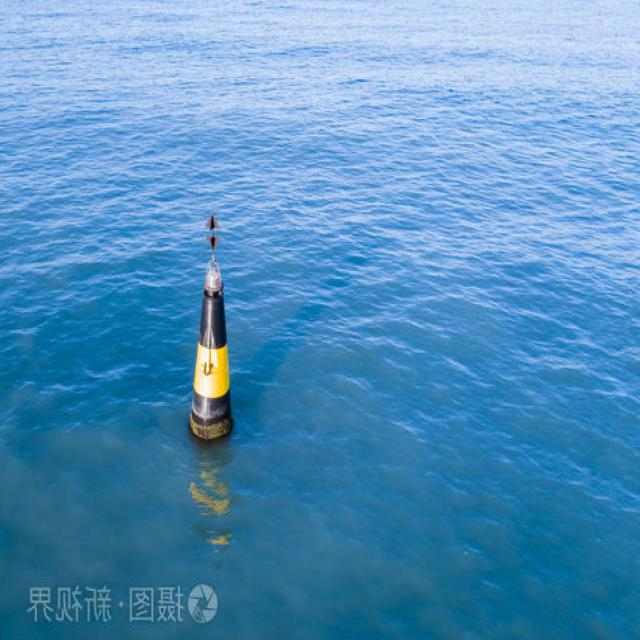buoy: (188, 197, 239, 456)
